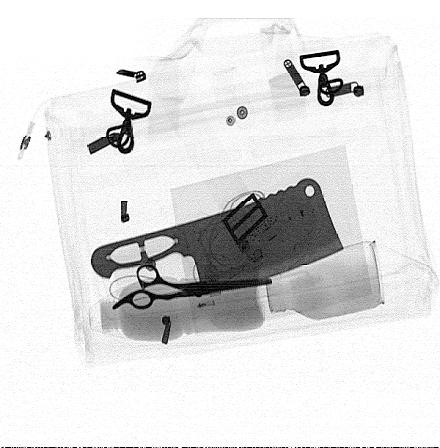Knife: (90, 178, 345, 295)
Scissors: (110, 264, 272, 310)
